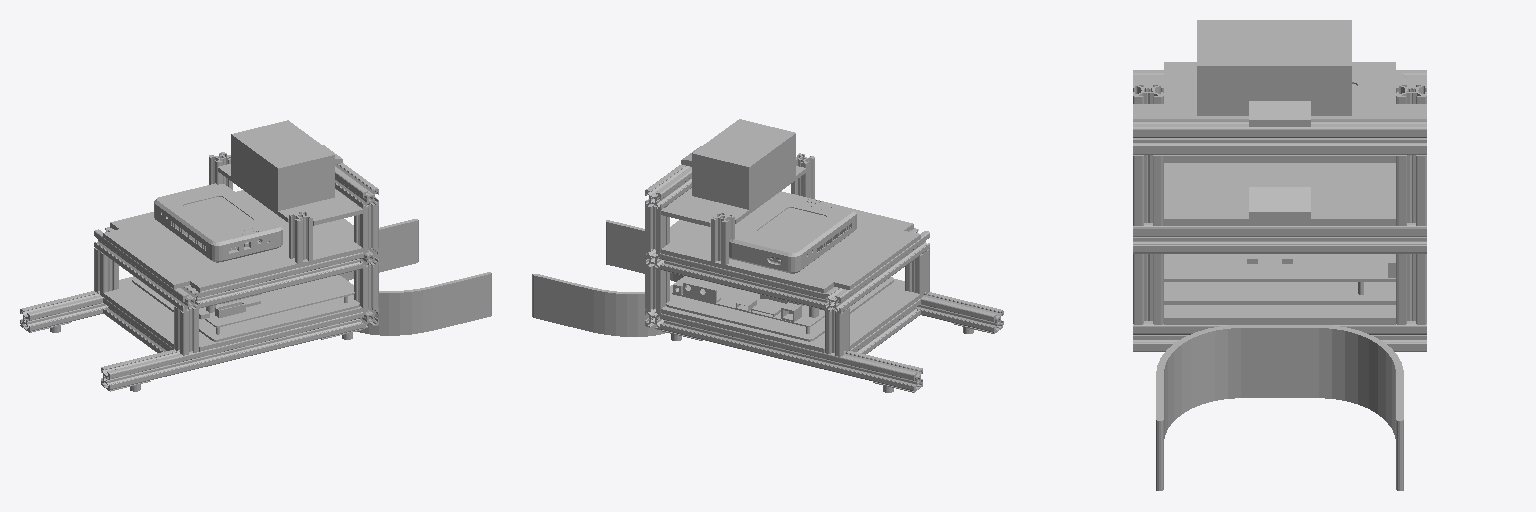
URDF robot description (model20):
<?xml version="1.0" encoding="utf-8"?>
<!-- This URDF was automatically created by SolidWorks to URDF Exporter! Originally created by [author] ([email redacted]) 
     Commit Version: 1.5.1-0-g916b5db  Build Version: 1.5.7152.31018
     For more information, please see http://wiki.ros.org/sw_urdf_exporter -->
<robot
  name="model20">
  <link
    name="base_link">
    <inertial>
      <origin
        xyz="0.090968 -0.00046322 0.011316"
        rpy="0 0 0" />
      <mass
        value="3.2296" />
      <inertia
        ixx="0.0058031"
        ixy="1.9364E-06"
        ixz="7.5662E-07"
        iyy="0.0072204"
        iyz="3.8668E-07"
        izz="0.012514" />
    </inertial>
    <visual>
      <origin
        xyz="0 0 0"
        rpy="0 0 0" />
      <geometry>
        <mesh
          filename="package://model20/meshes/base_link.STL" />
      </geometry>
      <material
        name="">
        <color
          rgba="0.75294 0.75294 0.75294 1" />
      </material>
    </visual>
    <collision>
      <origin
        xyz="0 0 0"
        rpy="0 0 0" />
      <geometry>
        <mesh
          filename="package://model20/meshes/base_link.STL" />
      </geometry>
    </collision>
  </link>
  <link
    name="left_front_wheel_suspension">
    <inertial>
      <origin
        xyz="-0.0078674 -0.015595 0.023256"
        rpy="0 0 0" />
      <mass
        value="0.065113" />
      <inertia
        ixx="1.488E-05"
        ixy="1.6485E-08"
        ixz="-1.5645E-07"
        iyy="1.7525E-05"
        iyz="-2.9641E-09"
        izz="8.0101E-06" />
    </inertial>
    <visual>
      <origin
        xyz="0 0 0"
        rpy="0 0 0" />
      <geometry>
        <mesh
          filename="package://model20/meshes/left_front_wheel_suspension.STL" />
      </geometry>
      <material
        name="">
        <color
          rgba="0.75294 0.75294 0.75294 1" />
      </material>
    </visual>
    <collision>
      <origin
        xyz="0 0 0"
        rpy="0 0 0" />
      <geometry>
        <mesh
          filename="package://model20/meshes/left_front_wheel_suspension.STL" />
      </geometry>
    </collision>
  </link>
  <joint
    name="left_front_wheel_suspension_joint"
    type="prismatic">
    <origin
      xyz="0.16352 0.0775901982858018 -0.0625778167969167"
      rpy="1.5707963267949 0 -1.5707963267949" />
    <parent
      link="base_link" />
    <child
      link="left_front_wheel_suspension" />
    <axis
      xyz="0 1 0" />
    <limit
      lower="0"
      upper="0"
      effort="0"
      velocity="0" />
  </joint>
  <link
    name="left_front_wheel">
    <inertial>
      <origin
        xyz="0.015839 9.7145E-17 -1.1102E-16"
        rpy="0 0 0" />
      <mass
        value="0.22822" />
      <inertia
        ixx="0.00078921"
        ixy="2.8829E-20"
        ixz="6.3616E-20"
        iyy="0.00041043"
        iyz="-3.3881E-19"
        izz="0.00041043" />
    </inertial>
    <visual>
      <origin
        xyz="0 0 0"
        rpy="0 0 0" />
      <geometry>
        <mesh
          filename="package://model20/meshes/left_front_wheel.STL" />
      </geometry>
      <material
        name="">
        <color
          rgba="1 1 1 1" />
      </material>
    </visual>
    <collision>
      <origin
        xyz="0 0 0"
        rpy="0 0 0" />
      <geometry>
        <mesh
          filename="package://model20/meshes/left_front_wheel.STL" />
      </geometry>
    </collision>
  </link>
  <joint
    name="left_front_wheel_joint"
    type="continuous">
    <origin
      xyz="-0.0197608799814971 -0.0217865728752538 0.0100000000000001"
      rpy="3.08413603591628 0 3.14159265358979" />
    <parent
      link="left_front_wheel_suspension" />
    <child
      link="left_front_wheel" />
    <axis
      xyz="1 0 0" />
    <limit
      effort="3.1"
      velocity="7" />
  </joint>
  <link
    name="right_front_wheel_suspension">
    <inertial>
      <origin
        xyz="-0.0041543 -0.01563 0.023256"
        rpy="0 0 0" />
      <mass
        value="0.065113" />
      <inertia
        ixx="1.488E-05"
        ixy="1.6485E-08"
        ixz="1.5645E-07"
        iyy="1.7525E-05"
        iyz="2.9641E-09"
        izz="8.0101E-06" />
    </inertial>
    <visual>
      <origin
        xyz="0 0 0"
        rpy="0 0 0" />
      <geometry>
        <mesh
          filename="package://model20/meshes/right_front_wheel_suspension.STL" />
      </geometry>
      <material
        name="">
        <color
          rgba="0.75294 0.75294 0.75294 1" />
      </material>
    </visual>
    <collision>
      <origin
        xyz="0 0 0"
        rpy="0 0 0" />
      <geometry>
        <mesh
          filename="package://model20/meshes/right_front_wheel_suspension.STL" />
      </geometry>
    </collision>
  </link>
  <joint
    name="right_front_wheel_suspension_joint"
    type="prismatic">
    <origin
      xyz="0.16352 -0.0924098017141981 -0.0625778167969166"
      rpy="1.5707963267949 0 -1.5707963267949" />
    <parent
      link="base_link" />
    <child
      link="right_front_wheel_suspension" />
    <axis
      xyz="0 1 0" />
    <limit
      lower="0"
      upper="0"
      effort="0"
      velocity="0" />
  </joint>
  <link
    name="right_front_wheel">
    <inertial>
      <origin
        xyz="0.015839 1.1102E-16 0"
        rpy="0 0 0" />
      <mass
        value="0.22822" />
      <inertia
        ixx="0.00078921"
        ixy="-3.3559E-20"
        ixz="5.3334E-21"
        iyy="0.00041043"
        iyz="-3.3204E-19"
        izz="0.00041043" />
    </inertial>
    <visual>
      <origin
        xyz="0 0 0"
        rpy="0 0 0" />
      <geometry>
        <mesh
          filename="package://model20/meshes/right_front_wheel.STL" />
      </geometry>
      <material
        name="">
        <color
          rgba="1 1 1 1" />
      </material>
    </visual>
    <collision>
      <origin
        xyz="0 0 0"
        rpy="0 0 0" />
      <geometry>
        <mesh
          filename="package://model20/meshes/right_front_wheel.STL" />
      </geometry>
    </collision>
  </link>
  <joint
    name="right_front_wheel_joint"
    type="continuous">
    <origin
      xyz="0.00773912001850283 -0.0217849999999998 0.0100000000000001"
      rpy="0.162600051915931 0 0" />
    <parent
      link="right_front_wheel_suspension" />
    <child
      link="right_front_wheel" />
    <axis
      xyz="1 0 0" />
    <limit
      effort="3.1"
      velocity="7" />
  </joint>
  <link
    name="camera">
    <inertial>
      <origin
        xyz="0.00044553 -1.1063E-05 0.0012982"
        rpy="0 0 0" />
      <mass
        value="0.043612" />
      <inertia
        ixx="2.3571E-05"
        ixy="-1.0185E-09"
        ixz="2.1758E-08"
        iyy="4.2948E-06"
        iyz="-8.8505E-10"
        izz="2.2106E-05" />
    </inertial>
    <visual>
      <origin
        xyz="0 0 0"
        rpy="0 0 0" />
      <geometry>
        <mesh
          filename="package://model20/meshes/camera.STL" />
      </geometry>
      <material
        name="">
        <color
          rgba="0.79216 0.81961 0.93333 1" />
      </material>
    </visual>
    <collision>
      <origin
        xyz="0 0 0"
        rpy="0 0 0" />
      <geometry>
        <mesh
          filename="package://model20/meshes/camera.STL" />
      </geometry>
    </collision>
  </link>
  <joint
    name="camera"
    type="fixed">
    <origin
      xyz="0.187883152408986 -0.00139050228123665 0.0574202048500908"
      rpy="0 0.40142572795869 0" />
    <parent
      link="base_link" />
    <child
      link="camera" />
    <axis
      xyz="0 0 0" />
  </joint>
  <link
    name="camera2">
    <inertial>
      <origin
        xyz="0.00044553 -1.1064E-05 0.0012982"
        rpy="0 0 0" />
      <mass
        value="0.043612" />
      <inertia
        ixx="2.3571E-05"
        ixy="-1.0184E-09"
        ixz="2.1759E-08"
        iyy="4.2948E-06"
        iyz="-8.8504E-10"
        izz="2.2106E-05" />
    </inertial>
    <visual>
      <origin
        xyz="0 0 0"
        rpy="0 0 0" />
      <geometry>
        <mesh
          filename="package://model20/meshes/camera2.STL" />
      </geometry>
      <material
        name="">
        <color
          rgba="0.79216 0.81961 0.93333 1" />
      </material>
    </visual>
    <collision>
      <origin
        xyz="0 0 0"
        rpy="0 0 0" />
      <geometry>
        <mesh
          filename="package://model20/meshes/camera2.STL" />
      </geometry>
    </collision>
  </link>
  <joint
    name="camera2"
    type="fixed">
    <origin
      xyz="0.184246194713152 -0.00139050228123667 0.123169082523395"
      rpy="0 0.174532925199424 0" />
    <parent
      link="base_link" />
    <child
      link="camera2" />
    <axis
      xyz="0 0 0" />
  </joint>
  <link
    name="lidar">
    <inertial>
      <origin
        xyz="-0.0086878 -0.0024201 -0.028765"
        rpy="0 0 0" />
      <mass
        value="0.073085" />
      <inertia
        ixx="1.9581E-05"
        ixy="-1.0393E-07"
        ixz="4.2839E-07"
        iyy="2.4125E-05"
        iyz="-9.4271E-09"
        izz="4.1418E-05" />
    </inertial>
    <visual>
      <origin
        xyz="0 0 0"
        rpy="0 0 0" />
      <geometry>
        <mesh
          filename="package://model20/meshes/lidar.STL" />
      </geometry>
      <material
        name="">
        <color
          rgba="0.79216 0.81961 0.93333 1" />
      </material>
    </visual>
    <collision>
      <origin
        xyz="0 0 0"
        rpy="0 0 0" />
      <geometry>
        <mesh
          filename="package://model20/meshes/lidar.STL" />
      </geometry>
    </collision>
  </link>
  <joint
    name="lidar_joint"
    type="fixed">
    <origin
      xyz="0.119259482420036 -0.0091960486691496 0.191917816796912"
      rpy="0 0 0" />
    <parent
      link="base_link" />
    <child
      link="lidar" />
    <axis
      xyz="0 0 0" />
  </joint>
  <link
    name="imu">
    <inertial>
      <origin
        xyz="-0.030741 0.049048 -0.051"
        rpy="0 0 0" />
      <mass
        value="0.00051" />
      <inertia
        ixx="5.3125E-09"
        ixy="-7.3726E-26"
        ixz="-3.6943E-27"
        iyy="5.3125E-09"
        iyz="-2.2118E-26"
        izz="8.5E-09" />
    </inertial>
    <visual>
      <origin
        xyz="0 0 0"
        rpy="0 0 0" />
      <geometry>
        <mesh
          filename="package://model20/meshes/imu.STL" />
      </geometry>
      <material
        name="">
        <color
          rgba="1 1 1 1" />
      </material>
    </visual>
    <collision>
      <origin
        xyz="0 0 0"
        rpy="0 0 0" />
      <geometry>
        <mesh
          filename="package://model20/meshes/imu.STL" />
      </geometry>
    </collision>
  </link>
  <joint
    name="imu"
    type="fixed">
    <origin
      xyz="0.119259482420036 -0.0091960486691496 0.191917816796912"
      rpy="0 0 0" />
    <parent
      link="base_link" />
    <child
      link="imu" />
    <axis
      xyz="0 0 0" />
  </joint>
  <link
    name="left_rear_wheel_suspension">
    <inertial>
      <origin
        xyz="-0.0078674 -0.015595 0.023256"
        rpy="0 0 0" />
      <mass
        value="0.065113" />
      <inertia
        ixx="1.488E-05"
        ixy="1.6485E-08"
        ixz="-1.5645E-07"
        iyy="1.7525E-05"
        iyz="-2.9641E-09"
        izz="8.0101E-06" />
    </inertial>
    <visual>
      <origin
        xyz="0 0 0"
        rpy="0 0 0" />
      <geometry>
        <mesh
          filename="package://model20/meshes/left_rear_wheel_suspension.STL" />
      </geometry>
      <material
        name="">
        <color
          rgba="0.75294 0.75294 0.75294 1" />
      </material>
    </visual>
    <collision>
      <origin
        xyz="0 0 0"
        rpy="0 0 0" />
      <geometry>
        <mesh
          filename="package://model20/meshes/left_rear_wheel_suspension.STL" />
      </geometry>
    </collision>
  </link>
  <joint
    name="left_rear_wheel_suspension_joint"
    type="prismatic">
    <origin
      xyz="-0.09648 0.0775915130798368 -0.0625778167969167"
      rpy="1.5707963267949 0 -1.5707963267949" />
    <parent
      link="base_link" />
    <child
      link="left_rear_wheel_suspension" />
    <axis
      xyz="0 1 0" />
    <limit
      lower="0"
      upper="0"
      effort="0"
      velocity="0" />
  </joint>
  <link
    name="left_rear_wheel">
    <inertial>
      <origin
        xyz="0.015839 2.2204E-16 0"
        rpy="0 0 0" />
      <mass
        value="0.22822" />
      <inertia
        ixx="0.00078921"
        ixy="1.461E-21"
        ixz="-8.3414E-21"
        iyy="0.00041043"
        iyz="-4.7434E-19"
        izz="0.00041043" />
    </inertial>
    <visual>
      <origin
        xyz="0 0 0"
        rpy="0 0 0" />
      <geometry>
        <mesh
          filename="package://model20/meshes/left_rear_wheel.STL" />
      </geometry>
      <material
        name="">
        <color
          rgba="1 1 1 1" />
      </material>
    </visual>
    <collision>
      <origin
        xyz="0 0 0"
        rpy="0 0 0" />
      <geometry>
        <mesh
          filename="package://model20/meshes/left_rear_wheel.STL" />
      </geometry>
    </collision>
  </link>
  <joint
    name="left_rear_wheel_joint"
    type="continuous">
    <origin
      xyz="-0.0197608799814972 -0.021786572875254 0.00999999999999968"
      rpy="-1.9625927389844 0 3.14159265358979" />
    <parent
      link="left_rear_wheel_suspension" />
    <child
      link="left_rear_wheel" />
    <axis
      xyz="1 0 0" />
  </joint>
  <link
    name="right_rear_wheel_suspension">
    <inertial>
      <origin
        xyz="-0.0041543 -0.01563 0.023256"
        rpy="0 0 0" />
      <mass
        value="0.065113" />
      <inertia
        ixx="1.488E-05"
        ixy="1.6485E-08"
        ixz="1.5645E-07"
        iyy="1.7525E-05"
        iyz="2.9641E-09"
        izz="8.0101E-06" />
    </inertial>
    <visual>
      <origin
        xyz="0 0 0"
        rpy="0 0 0" />
      <geometry>
        <mesh
          filename="package://model20/meshes/right_rear_wheel_suspension.STL" />
      </geometry>
      <material
        name="">
        <color
          rgba="0.75294 0.75294 0.75294 1" />
      </material>
    </visual>
    <collision>
      <origin
        xyz="0 0 0"
        rpy="0 0 0" />
      <geometry>
        <mesh
          filename="package://model20/meshes/right_rear_wheel_suspension.STL" />
      </geometry>
    </collision>
  </link>
  <joint
    name="right_rear_wheel_suspension_joint"
    type="prismatic">
    <origin
      xyz="-0.09648 -0.0924098017141981 -0.0625778167969168"
      rpy="1.5707963267949 0 -1.5707963267949" />
    <parent
      link="base_link" />
    <child
      link="right_rear_wheel_suspension" />
    <axis
      xyz="0 1 0" />
    <limit
      lower="0"
      upper="0"
      effort="0"
      velocity="0" />
  </joint>
  <link
    name="right_rear_wheel">
    <inertial>
      <origin
        xyz="0.015839 9.7145E-17 0"
        rpy="0 0 0" />
      <mass
        value="0.22822" />
      <inertia
        ixx="0.00078921"
        ixy="7.8341E-22"
        ixz="5.8197E-21"
        iyy="0.00041043"
        iyz="-3.078E-19"
        izz="0.00041043" />
    </inertial>
    <visual>
      <origin
        xyz="0 0 0"
        rpy="0 0 0" />
      <geometry>
        <mesh
          filename="package://model20/meshes/right_rear_wheel.STL" />
      </geometry>
      <material
        name="">
        <color
          rgba="1 1 1 1" />
      </material>
    </visual>
    <collision>
      <origin
        xyz="0 0 0"
        rpy="0 0 0" />
      <geometry>
        <mesh
          filename="package://model20/meshes/right_rear_wheel.STL" />
      </geometry>
    </collision>
  </link>
  <joint
    name="right_rear_wheel_joint"
    type="continuous">
    <origin
      xyz="0.00773912001850278 -0.021785 0.01"
      rpy="0 0 0" />
    <parent
      link="right_rear_wheel_suspension" />
    <child
      link="right_rear_wheel" />
    <axis
      xyz="1 0 0" />
  </joint>
</robot>

--- Render facts (derived) ---
Views: 3 orthographic renders of the robot side by side, from view 1: azimuth 30°, elevation 25°; view 2: azimuth 150°, elevation 25°; view 3: azimuth 270°, elevation 25°.
Robot: model20 — 13 links, 12 joints (4 continuous, 4 prismatic, 4 fixed); root link base_link; default pose: every joint at zero.
Visible links, largest first — view 1: base_link; view 2: base_link; view 3: base_link.
Boxes of the visible links, <box> form: base_link: <box>20,120,491,391</box>; base_link: <box>532,119,1003,392</box>; base_link: <box>1133,20,1426,490</box>.
Size in the robot's own frame: 0.4775 by 0.19 by 0.22 metres.
1 mesh visuals loaded from 13 distinct referenced files (1 binary STL); not drawn: 12 (reference not matched to a file when rendering).